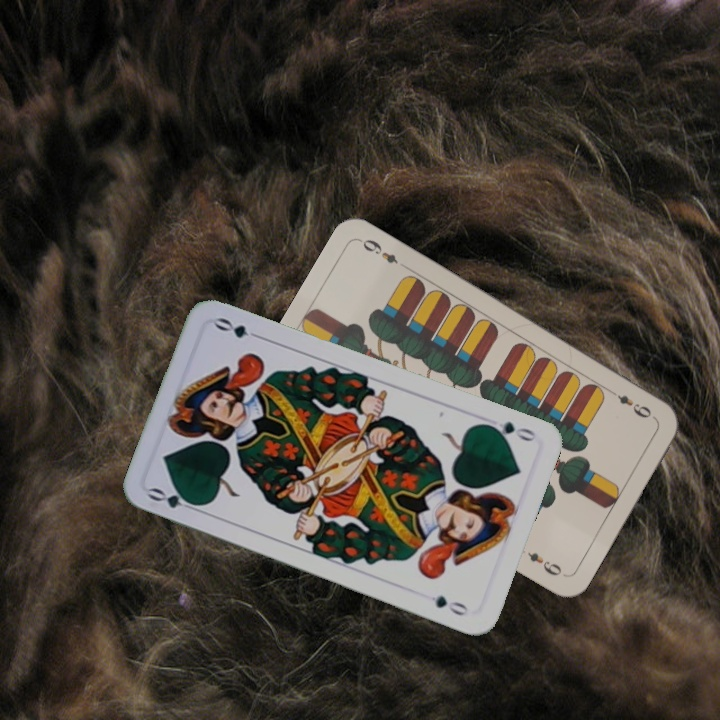E9: (613, 391, 655, 421)
GO: (144, 483, 204, 515), (480, 417, 538, 444)
